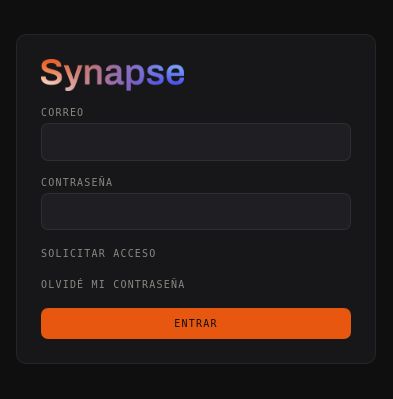
cuando falla › si el servicio no responde lo dice, en vez de quedarse mudo
The width and height of the screenshot is (393, 399).
Type "prueba@uamx.test" into the field labelled "Correo" at (196, 142), box [41, 123, 351, 160]
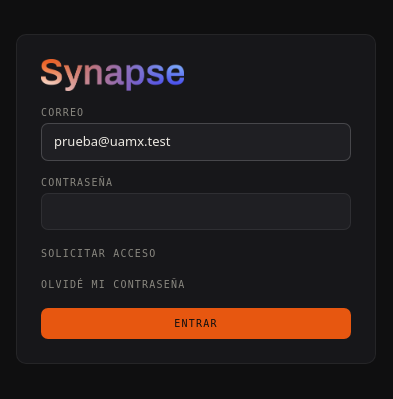
Type "secreto123" into the password field labelled "Contraseña" at (196, 211), box [41, 192, 351, 230]
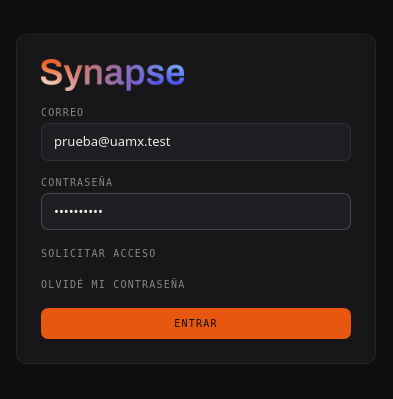
Click the button "Entrar" at (196, 324), box [41, 308, 351, 339]
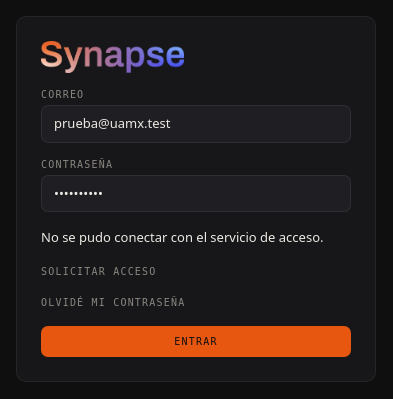
Expected: the message shows "No se pudo conectar", [41, 228, 324, 246]
